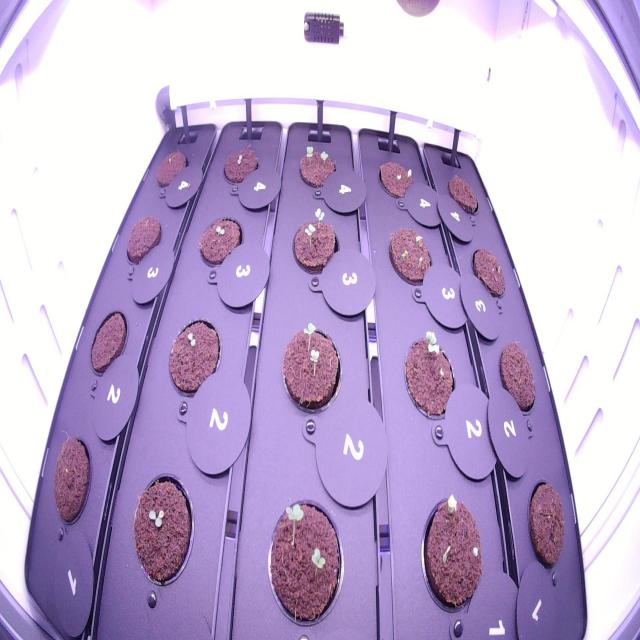germination: (259, 487, 348, 635), (416, 485, 489, 623), (124, 467, 198, 596), (275, 314, 347, 420), (398, 322, 462, 432), (161, 310, 223, 405), (285, 200, 342, 282), (384, 220, 438, 300), (195, 207, 248, 280), (292, 138, 340, 198), (373, 152, 421, 210), (220, 143, 264, 193)
pod: (50, 428, 96, 538), (522, 472, 568, 575), (492, 331, 540, 426), (85, 302, 130, 381), (468, 240, 509, 308), (121, 209, 165, 272), (444, 166, 482, 224), (152, 141, 190, 196)
